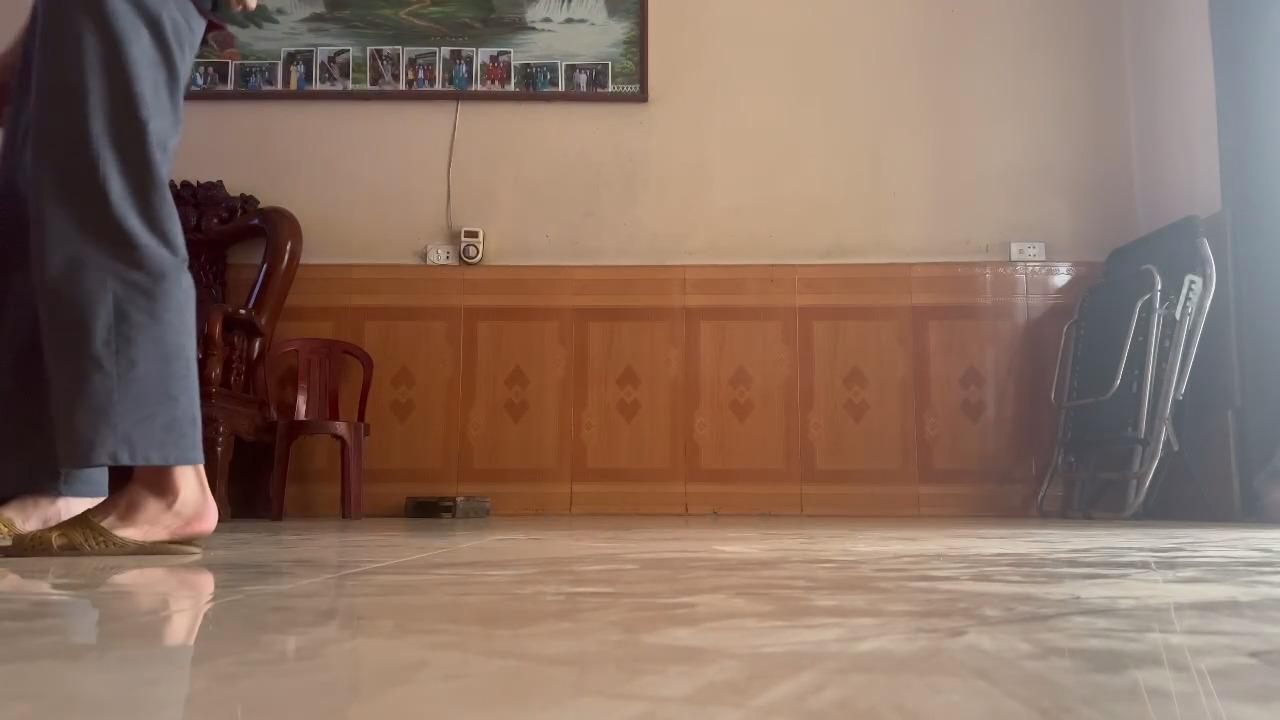no-boot: (0, 477, 227, 570)
